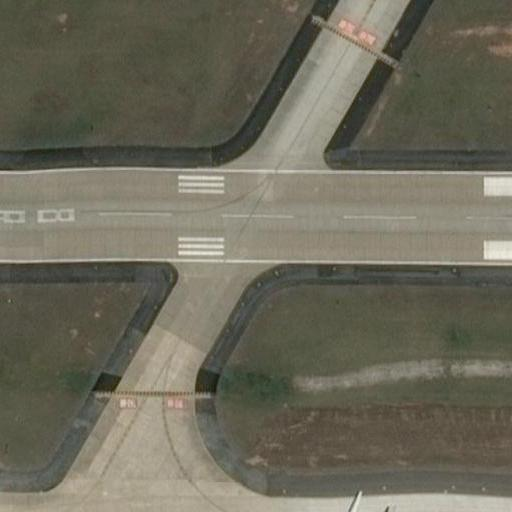Aircraft: (294, 485, 394, 512)
